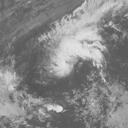cyclone: (37, 20, 106, 75)
